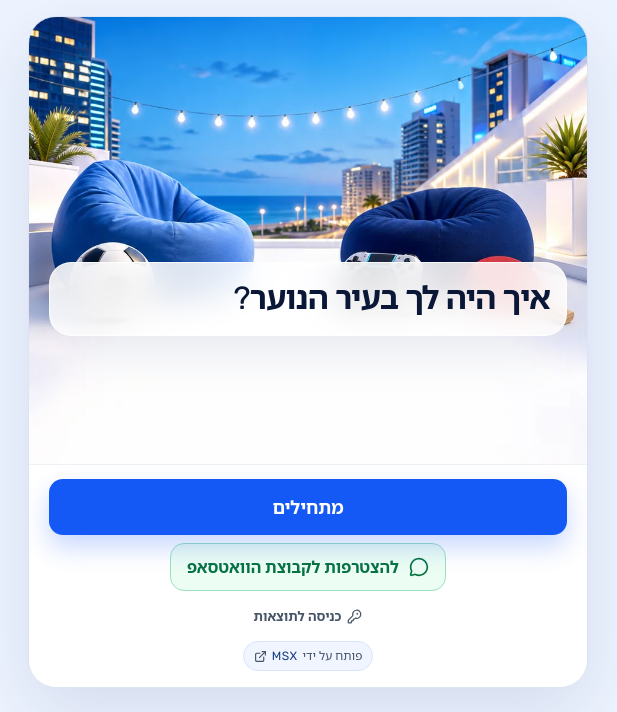
anonymous youth feedback flow › stops non-visitors before the experience questions
Click the button "מתחילים" at (308, 507), box [49,479,567,535]
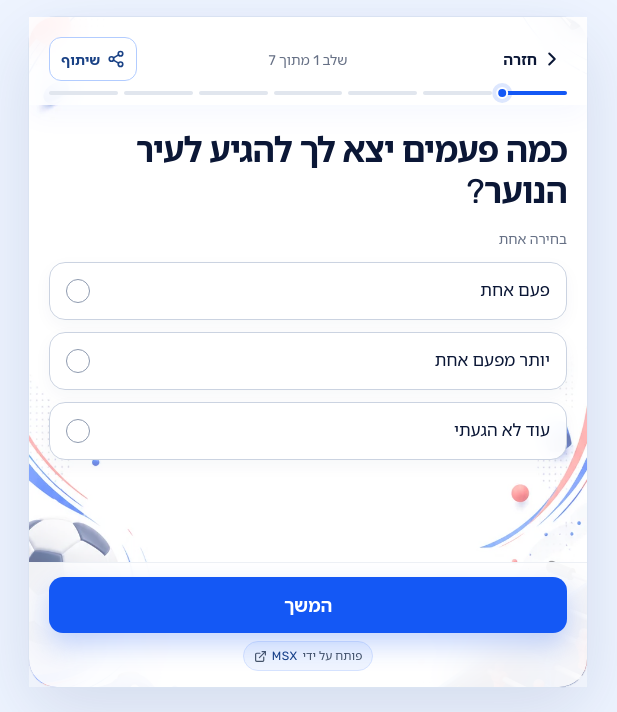
Click the radio button labelled "עוד לא הגעתי" at (502, 430), box [49,402,567,460]
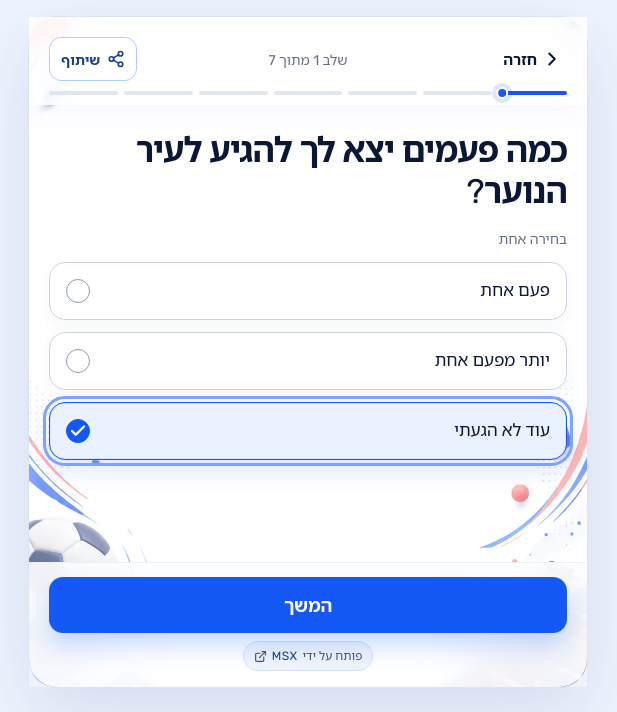
Click the button "המשך" at (308, 605), box [49,577,567,633]
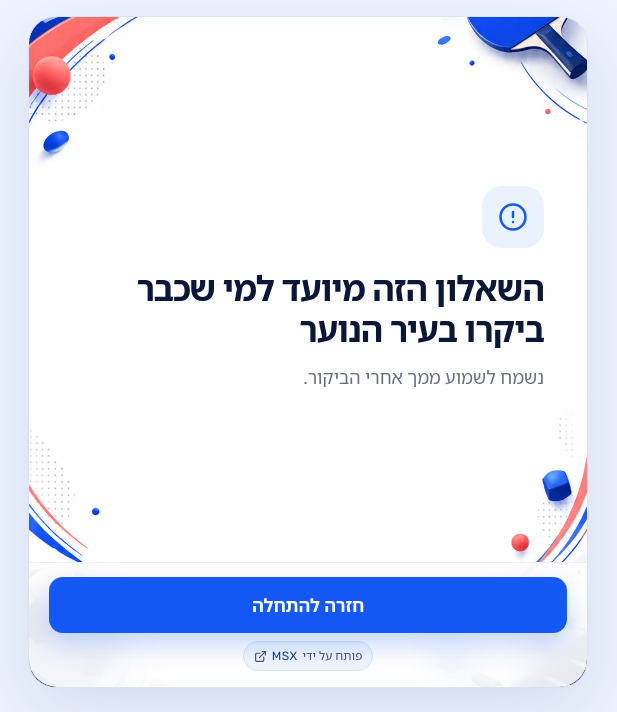
Expected: the heading "השאלון הזה מיועד למי שכבר ביקרו בעיר הנוער" is shown, [72,270,544,351]
